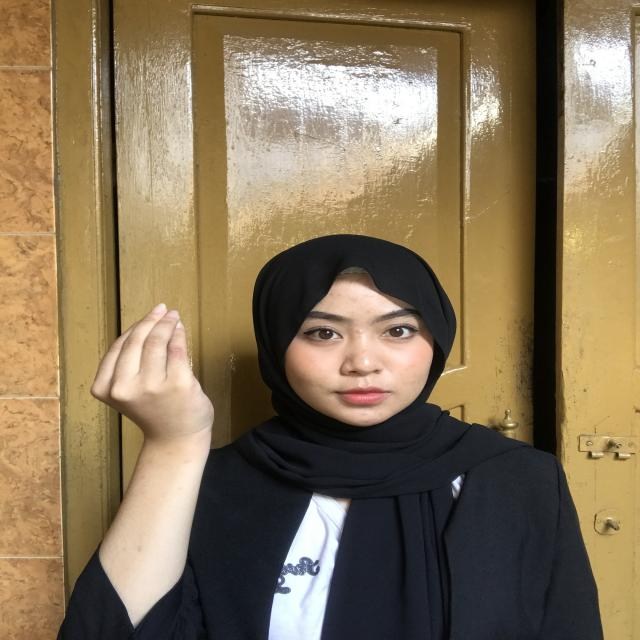kapan: (78, 307, 224, 464)
